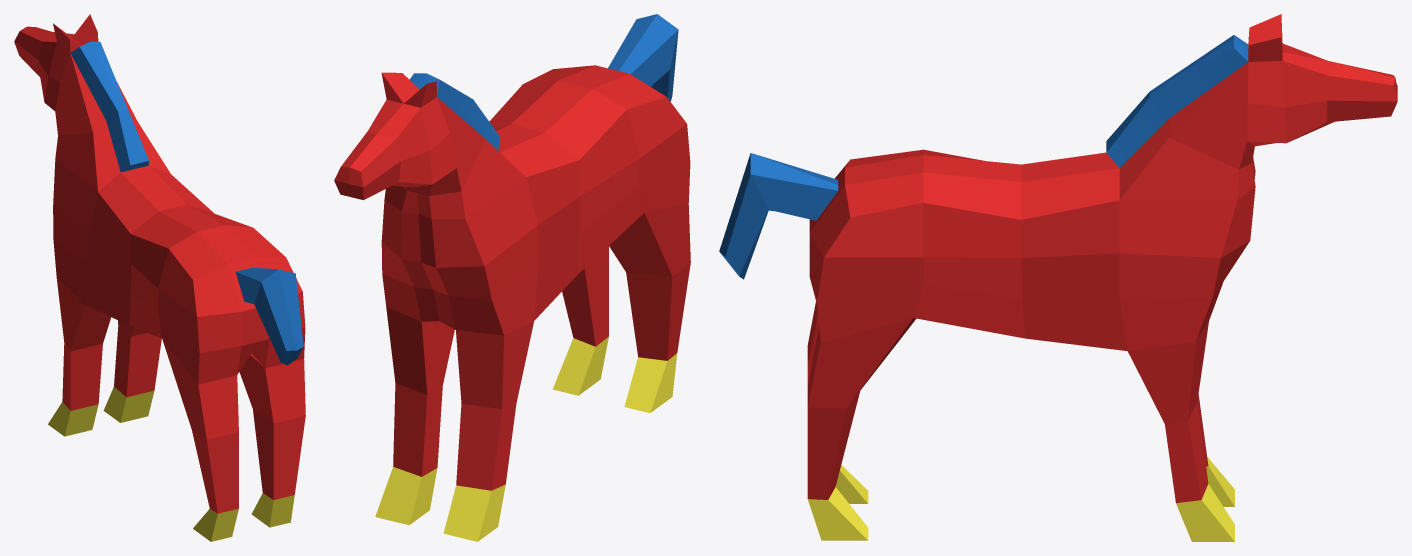
File: Horse.fbx
3 renders of one model, left to right at view 1: azimuth 30°, elevation 25°; view 2: azimuth 150°, elevation 25°; view 3: azimuth 270°, elevation 25°, orthographic. The views are drawn at different scales.
Parts seen in each view (by area): view 1: Horse; view 2: Horse; view 3: Horse.
Part boxes in pixels (x1,y1,x2,y2): Horse: [14, 14, 305, 541]; Horse: [334, 14, 690, 541]; Horse: [719, 14, 1397, 541].
Size of the model in its own units: 0.9657 by 3.34 by 4.18.
